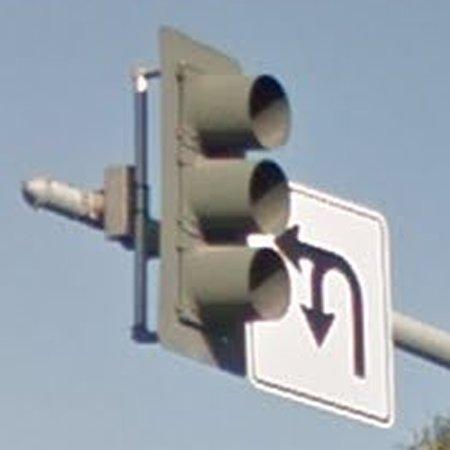traffic lights: (158, 24, 292, 379)
